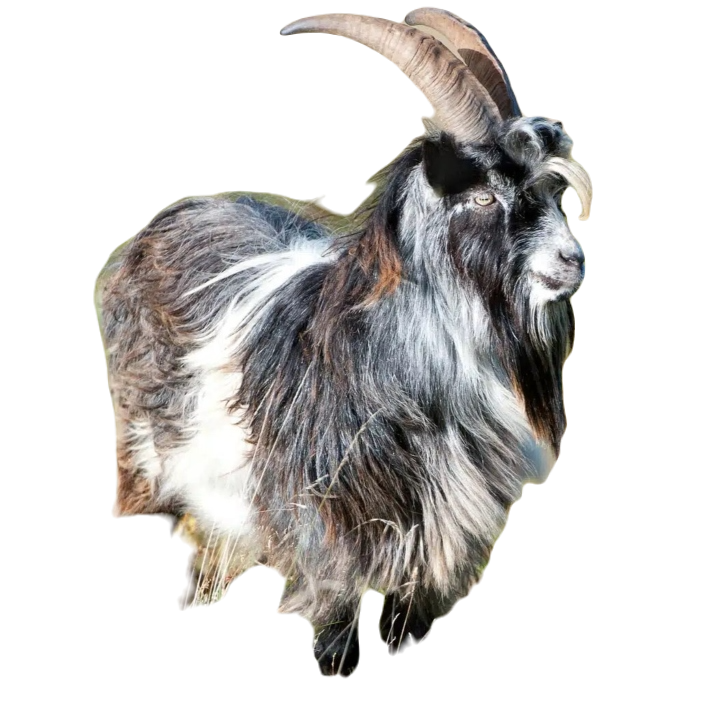Goat: (89, 7, 591, 677)
